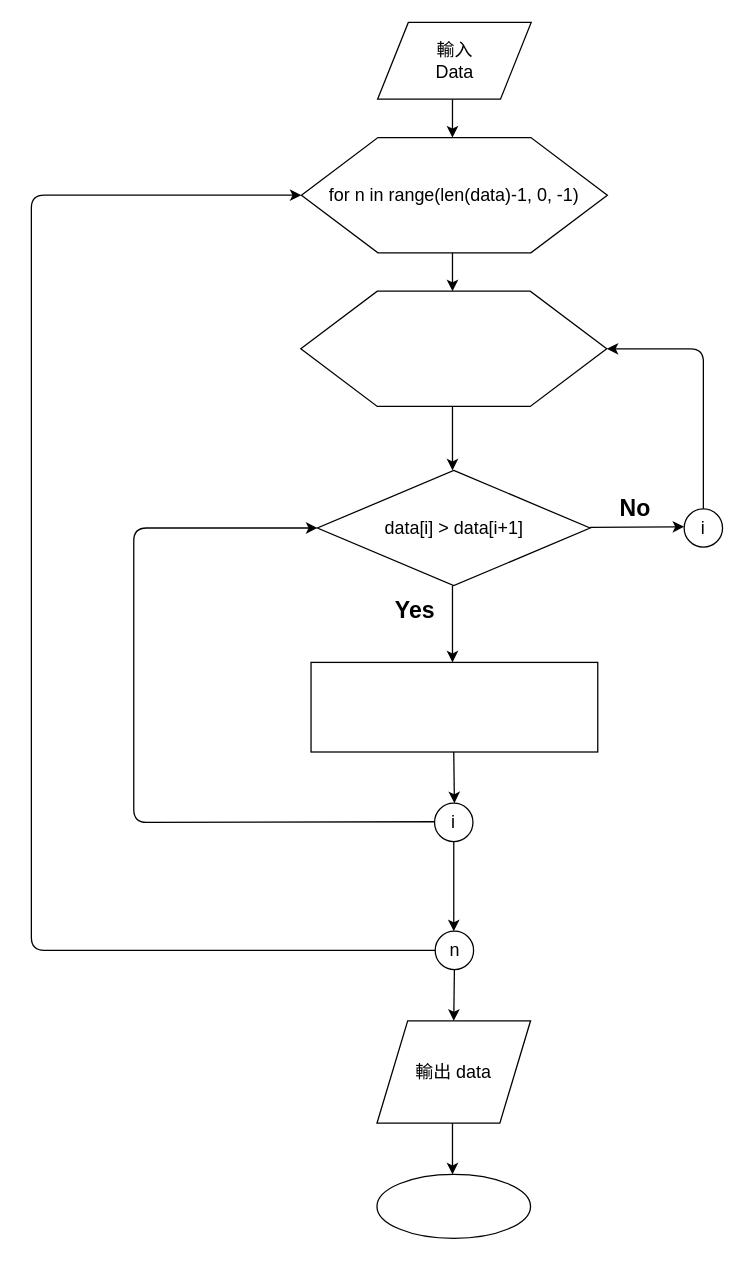
This 745x1261 diagram has some shape labels left out. Here are the shapes that lost their labels. From the top down, the box of each, then its label:
(300, 290, 607, 406): for i in range(n)
(310, 661, 598, 752): data[i+1],data[i] = data[i],data[i+1]
(376, 1173, 531, 1238): End
